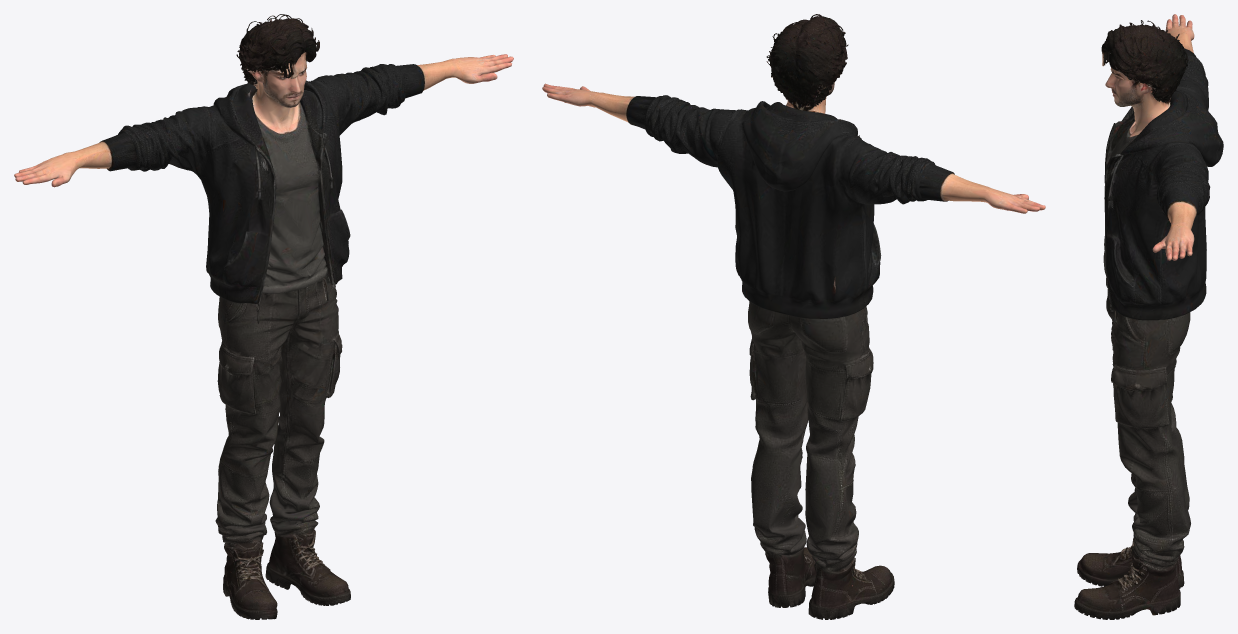
Rendered from gdk_realistic_male_textured_mobile.glb.
3 views of the same model, side by side, from view 1: azimuth 30°, elevation 25°; view 2: azimuth 150°, elevation 25°; view 3: azimuth 270°, elevation 25° (orthographic).
Visible parts, largest first — view 1: Mesh_0; view 2: Mesh_0; view 3: Mesh_0.
Boxes of the visible parts, left/top/right/bottom form: Mesh_0: left=14, top=14, right=513, bottom=619; Mesh_0: left=542, top=14, right=1045, bottom=619; Mesh_0: left=1074, top=14, right=1223, bottom=619.
Size of the model in its own units: 164 by 180 by 42.43.
Materials: 1 (1 with a texture image).
